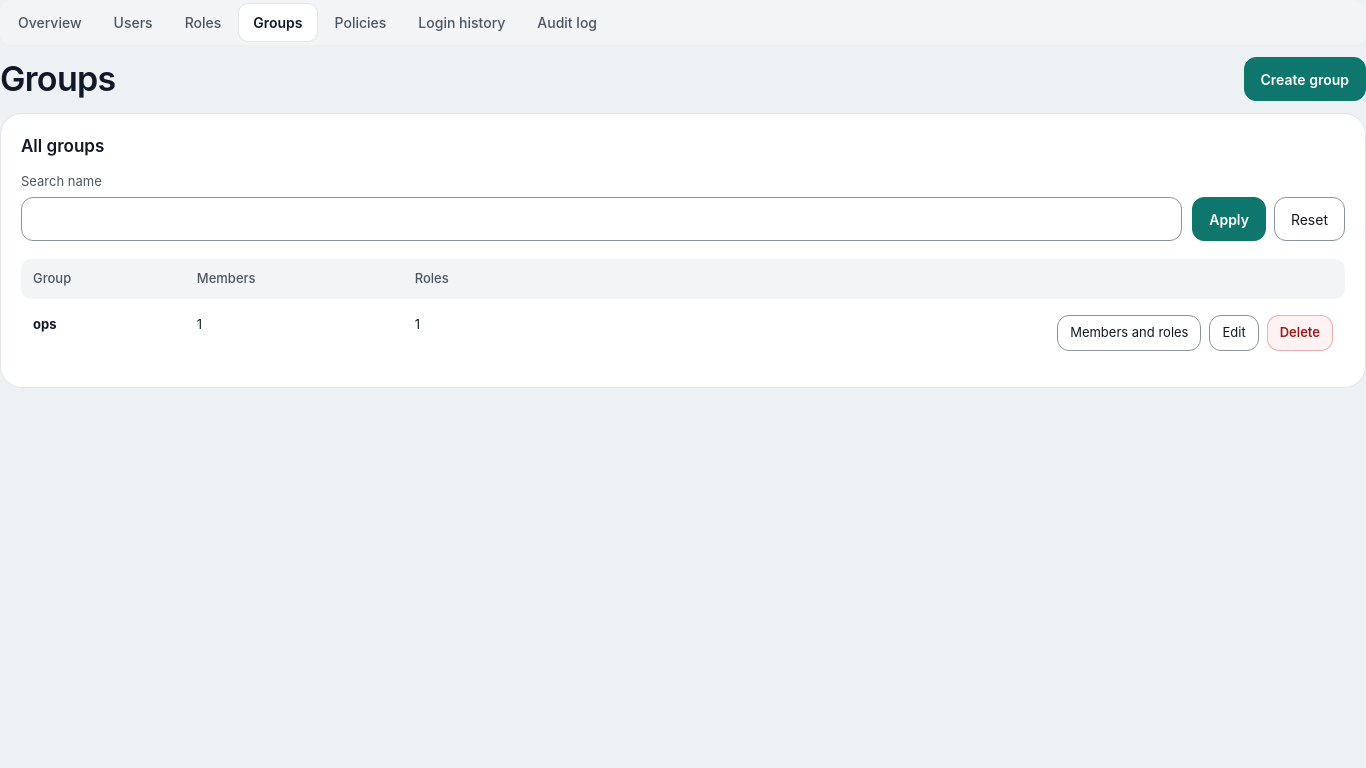
Test: IAM groups › shows the server's error when saving members
Click the button with aria-label "Manage members and roles of ops". click: (1129, 332)
box: [1057, 314, 1202, 350]
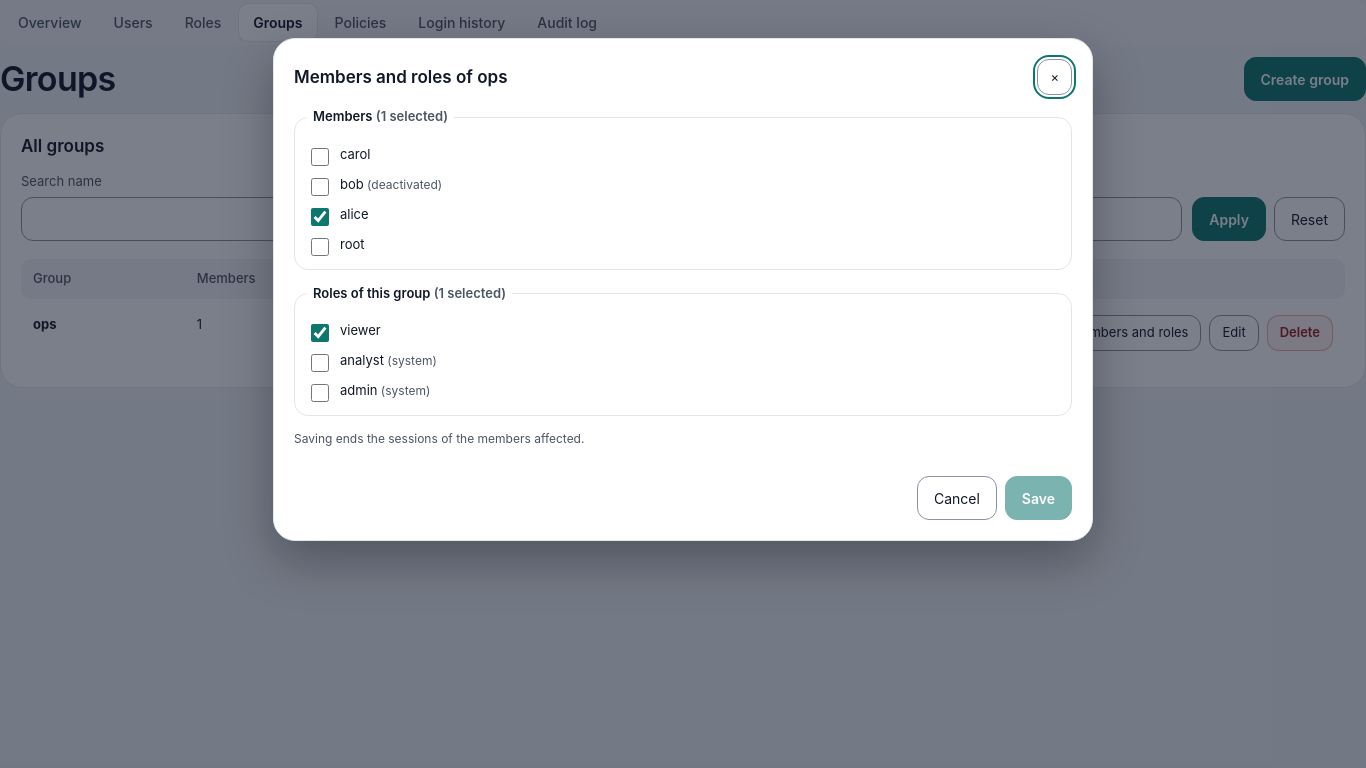
Click the checkbox labelled "carol". click: (320, 157)
box: [311, 148, 329, 166]
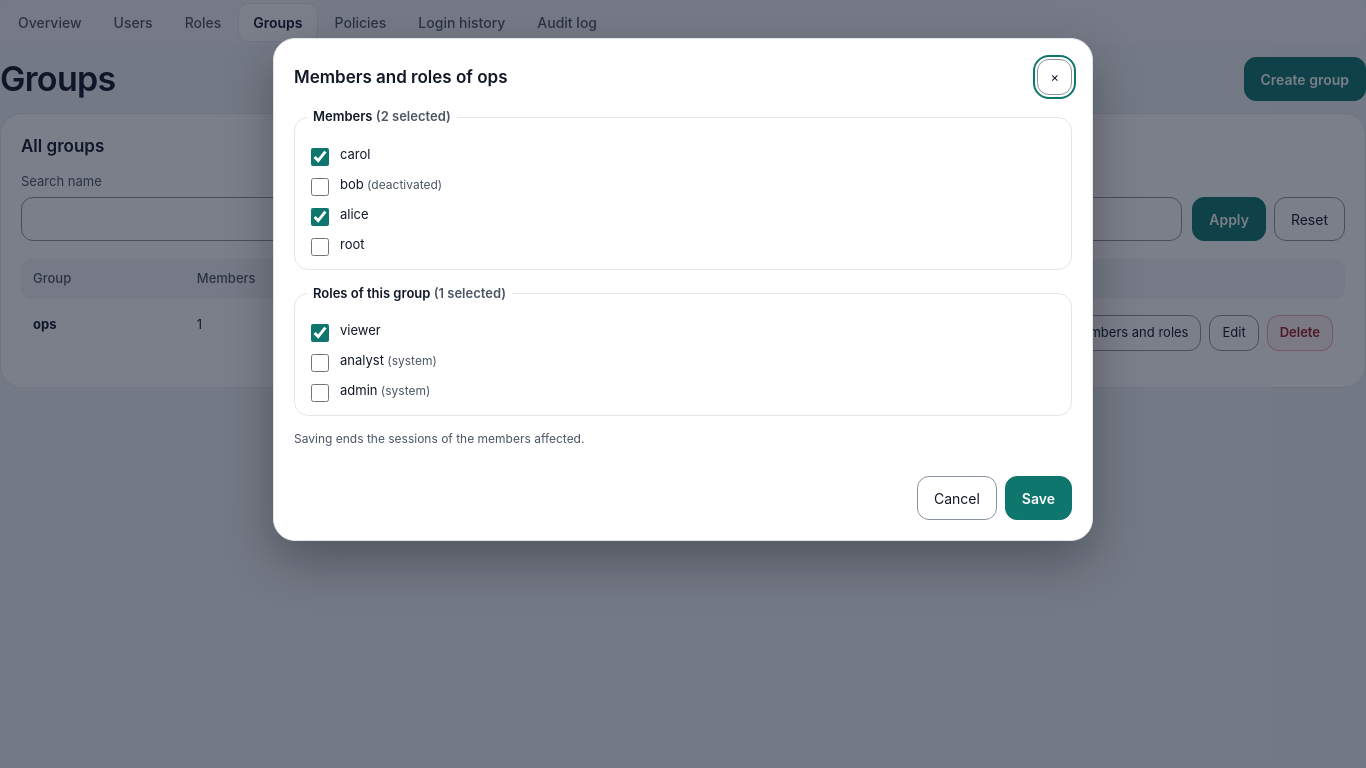
Click the button "Save". click: (1038, 498)
box: [1005, 476, 1072, 520]
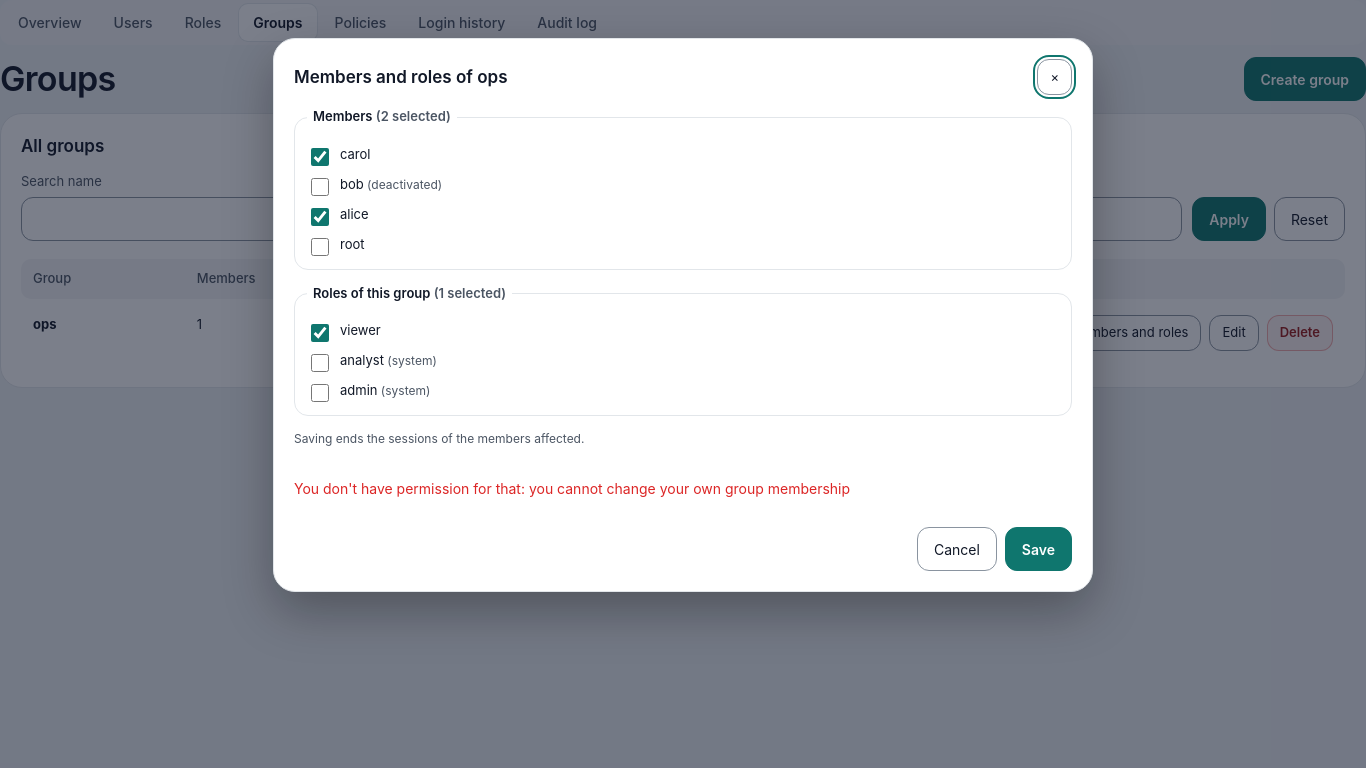
Check: the text "cannot change your own group membership" is shown, box [294, 480, 850, 497]
